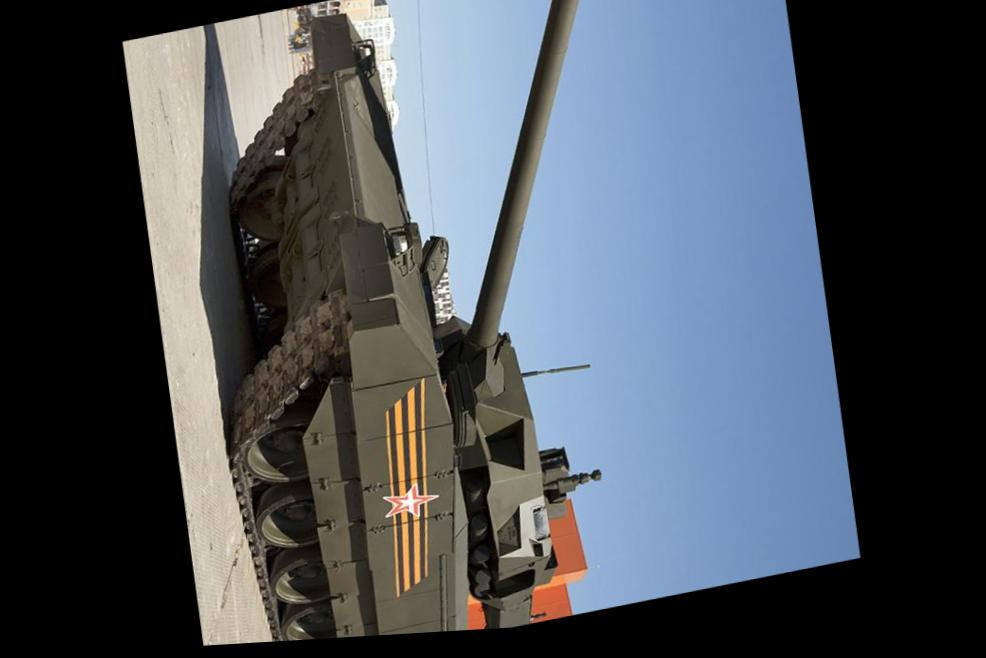tank: (157, 0, 741, 648)
